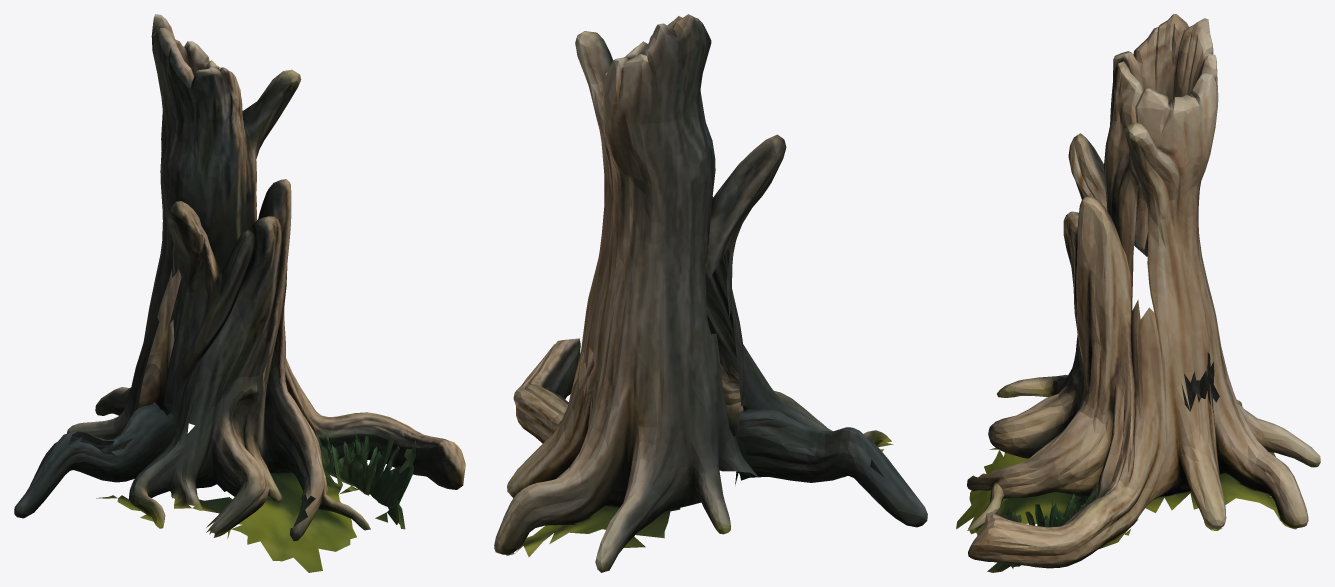
The model's file is terrain4_oak_0.glb.
The picture shows the model from 3 angles, left to right: view 1: azimuth 30°, elevation 25°; view 2: azimuth 150°, elevation 25°; view 3: azimuth 270°, elevation 25°; orthographic projection. The views are drawn at different scales.
Visible parts, largest first — view 1: oak_0; view 2: oak_0; view 3: oak_0.
Part boxes in pixels (x1=…): oak_0: x1=14, y1=14, x2=465, y2=572; oak_0: x1=494, y1=14, x2=927, y2=572; oak_0: x1=956, y1=14, x2=1320, y2=572.
Bounding box in the file's own units: 37.5 × 44.09 × 29.82.
Materials: 1 (1 with a texture image).
